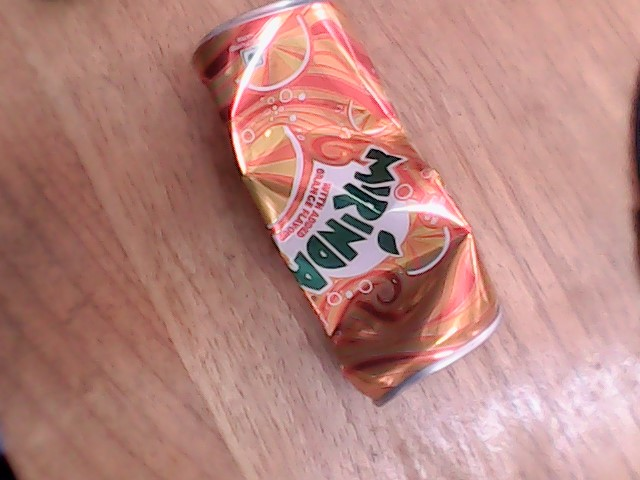Metal: (179, 5, 514, 411)
